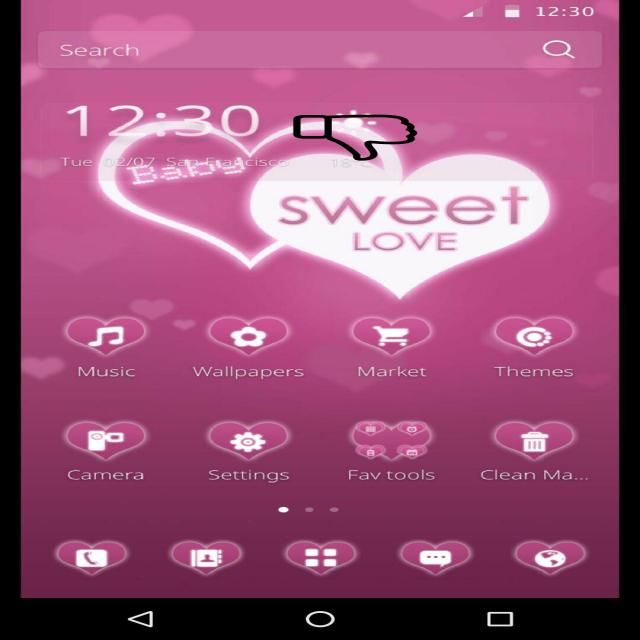obstruction: (292, 114, 419, 160)
